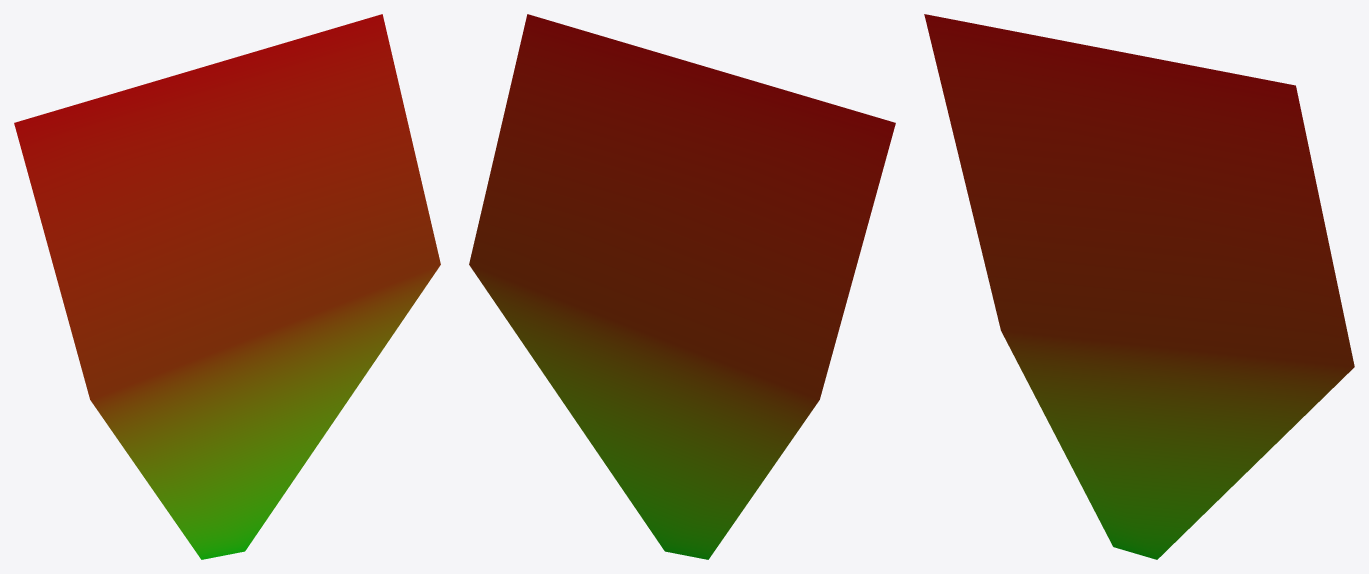
The model's file is Leafy Nineawn_LOD3_Var4_tlijciuia.fbx.
3 views of the same model, side by side, from view 1: azimuth 30°, elevation 25°; view 2: azimuth 150°, elevation 25°; view 3: azimuth 330°, elevation 25° (orthographic).
Parts seen in each view (by area): view 1: _4892_Var4_LOD3; view 2: _4892_Var4_LOD3; view 3: _4892_Var4_LOD3.
Part boxes in pixels (x1,y1,x2,y2): _4892_Var4_LOD3: (14,14,440,559); _4892_Var4_LOD3: (469,14,895,559); _4892_Var4_LOD3: (924,14,1354,559).
Size of the model in its own units: 10.38 by 11.71 by 2.15e-06.
